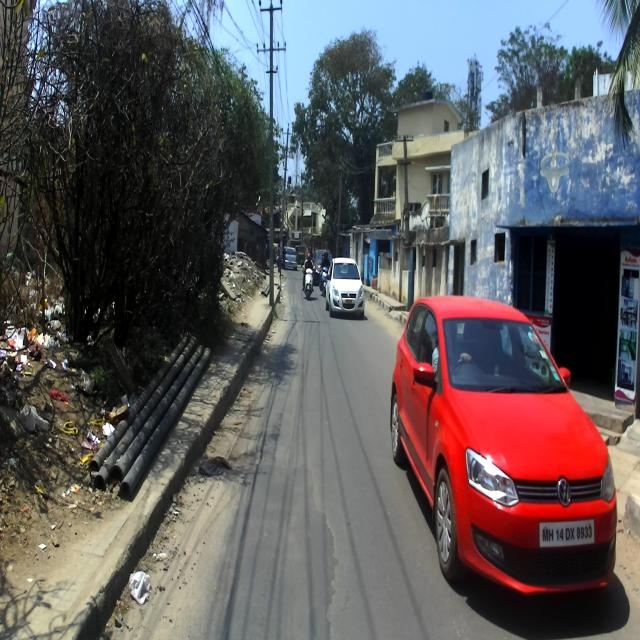car ahead at: (392, 287, 623, 602), (326, 258, 365, 320)
electric pole ahead at: (253, 0, 298, 307)
